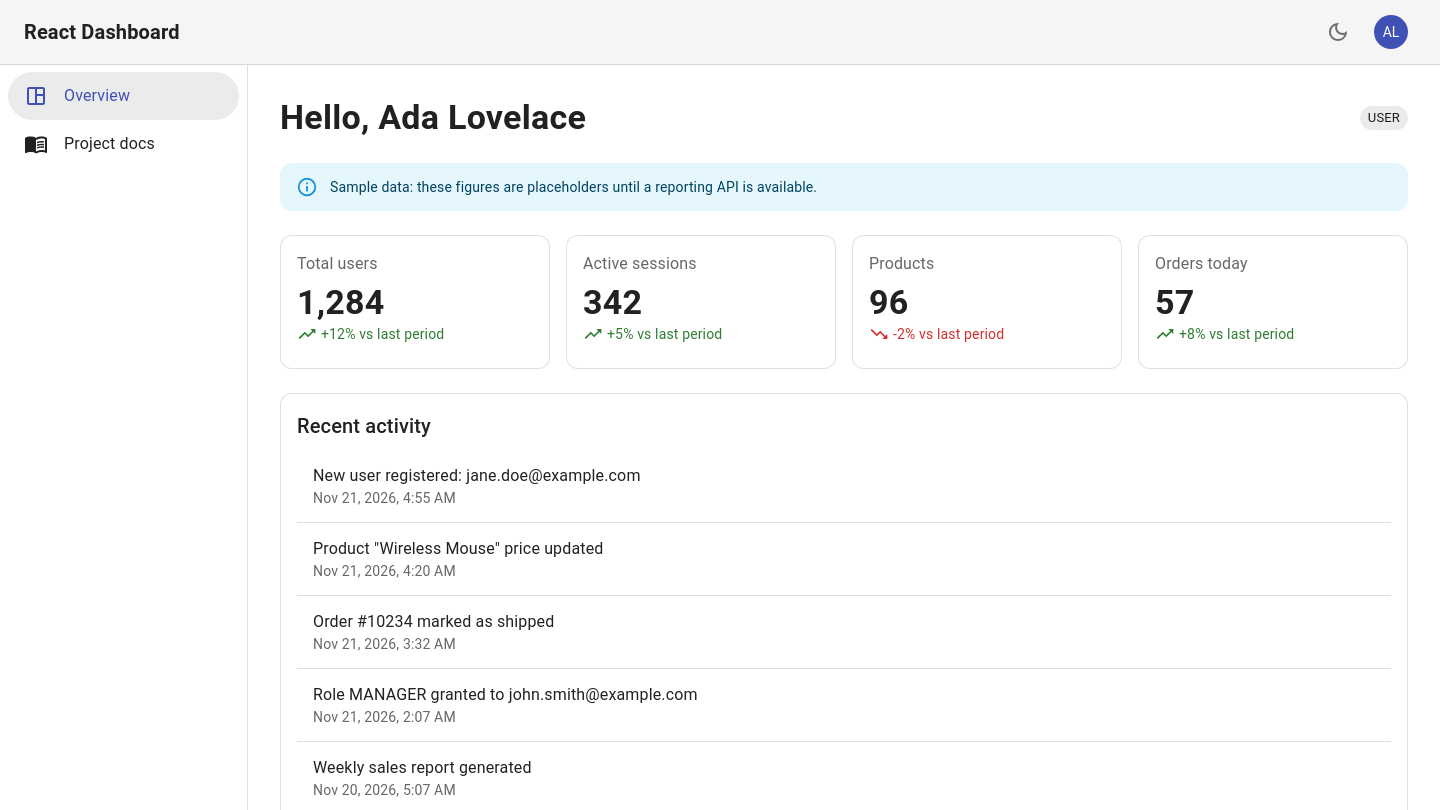
Scenario: App (integration) › sign out revokes the session on the server and returns to the login page
Click the button with aria-label "Account menu" at (1391, 32), box [1366, 7, 1416, 57]
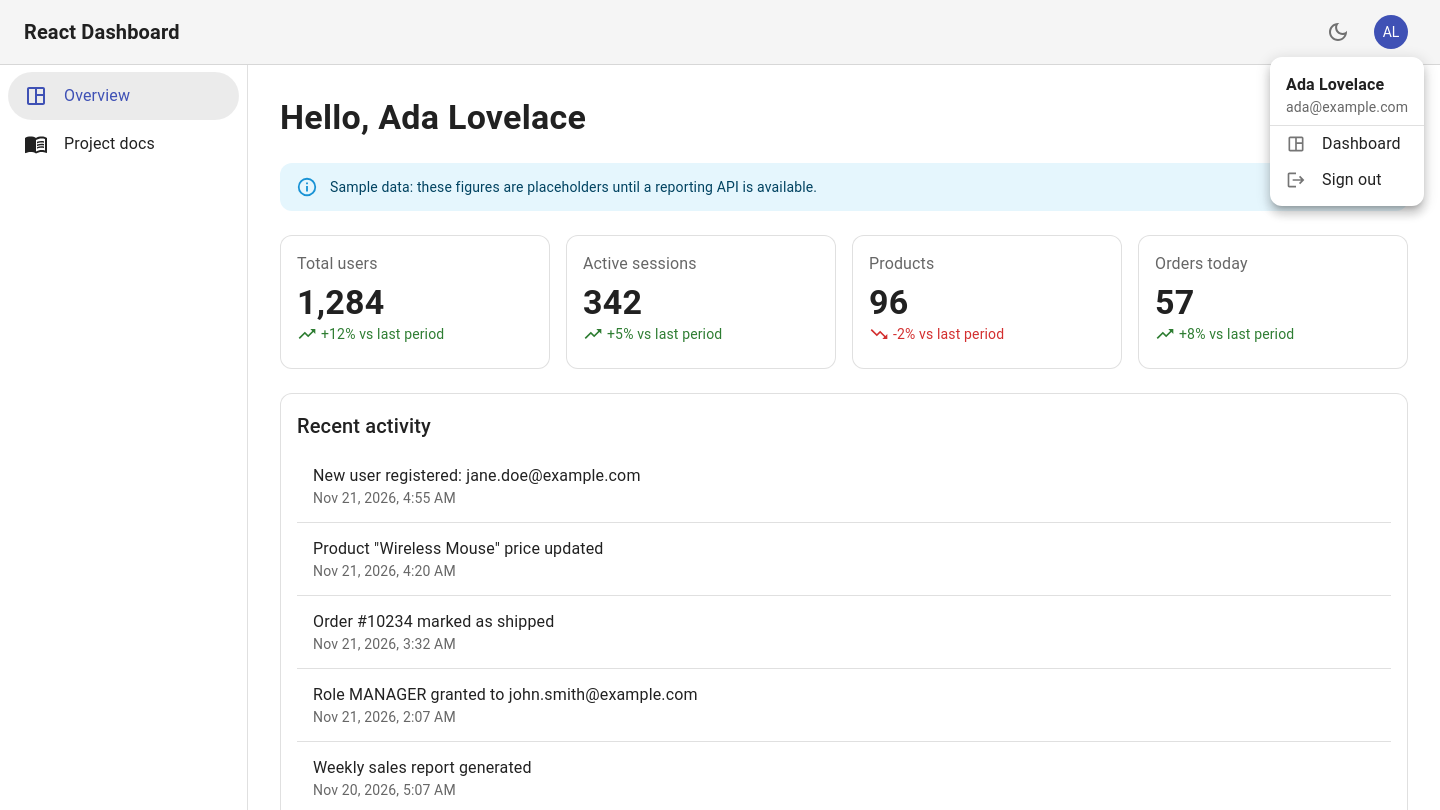
Click the menu item "Sign out" at (1334, 180), box [1286, 170, 1382, 190]
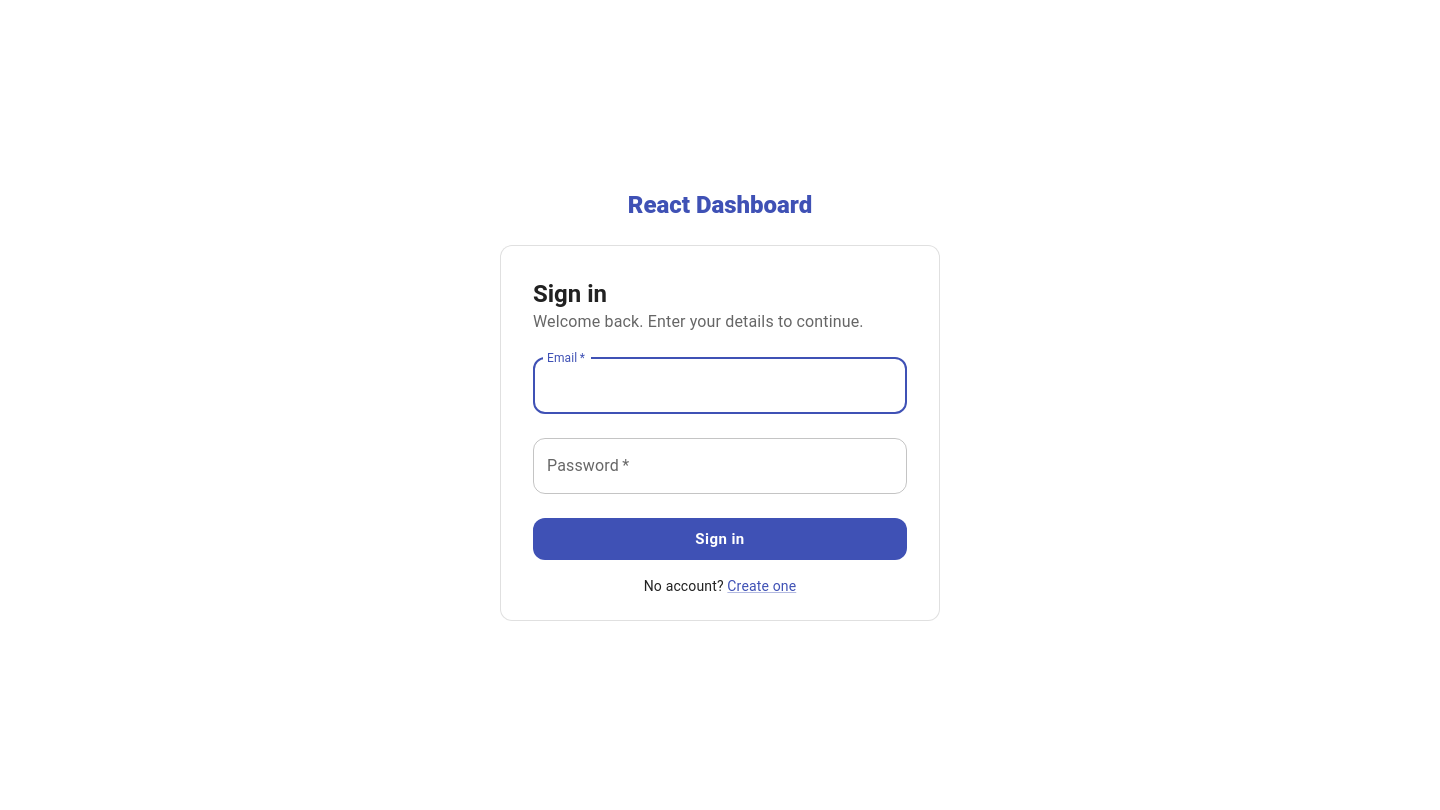
Now the field labelled "Email *" is shown, box [533, 358, 907, 414]
